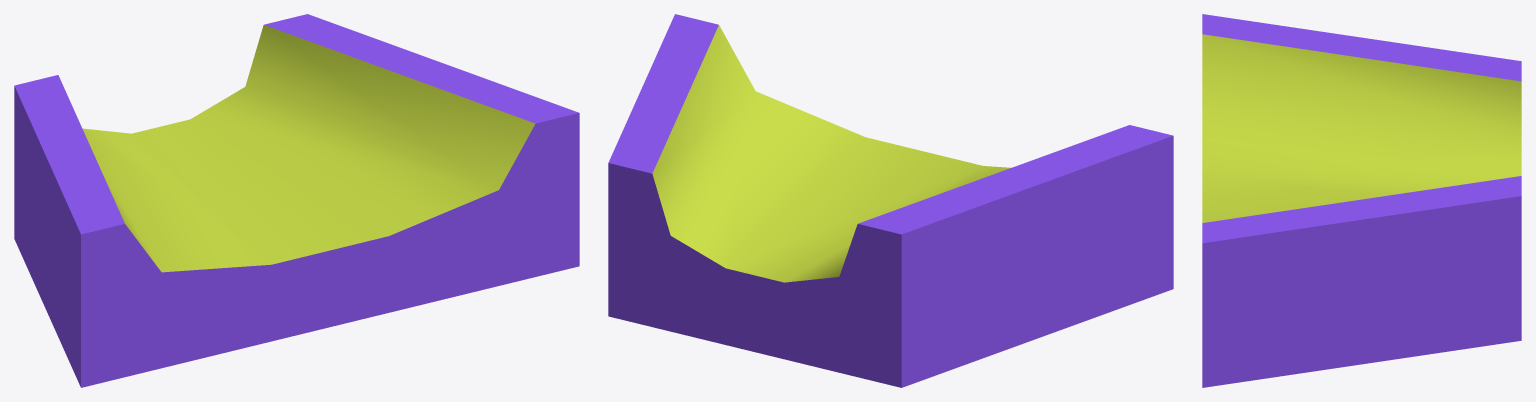
File: funnel.fbx
3 views of the same model, side by side, from view 1: azimuth 30°, elevation 25°; view 2: azimuth 150°, elevation 25°; view 3: azimuth 270°, elevation 25° (orthographic). The views are drawn at different scales.
Visible parts, largest first — view 1: funnel; view 2: funnel; view 3: funnel.
Part boxes in pixels (bbox=[...]): funnel: bbox=[14, 14, 579, 387]; funnel: bbox=[608, 14, 1173, 387]; funnel: bbox=[1202, 14, 1521, 387].
Size of the model in its own units: 17 by 5 by 10.
